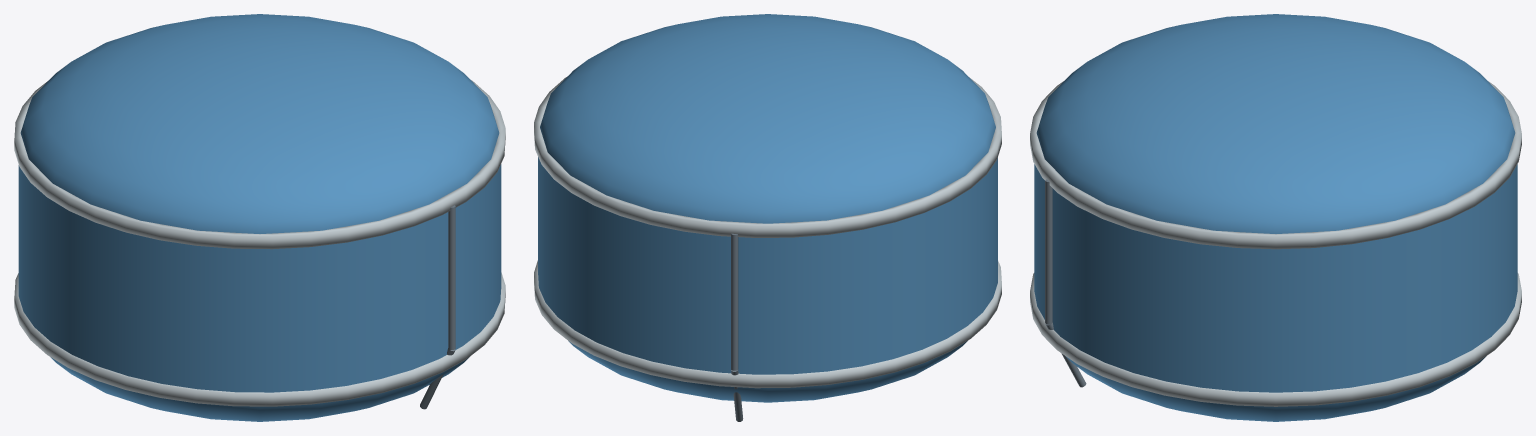
The model's file is titan_centaur_lox_vessel.glb.
3 views of the same model, side by side, from view 1: azimuth 30°, elevation 25°; view 2: azimuth 150°, elevation 25°; view 3: azimuth 270°, elevation 25° (orthographic). The views are drawn at different scales.
Visible parts, largest first — view 1: titan_centaur_lox_vessel.mesh_Cutaway_liquid_oxygen, titan_centaur_lox_vessel.mesh_Satin_aluminum, titan_centaur_lox_vessel.mesh_Machined_steel; view 2: titan_centaur_lox_vessel.mesh_Cutaway_liquid_oxygen, titan_centaur_lox_vessel.mesh_Satin_aluminum, titan_centaur_lox_vessel.mesh_Machined_steel; view 3: titan_centaur_lox_vessel.mesh_Cutaway_liquid_oxygen, titan_centaur_lox_vessel.mesh_Satin_aluminum, titan_centaur_lox_vessel.mesh_Machined_steel.
Part boxes in pixels (bbox=[...]): titan_centaur_lox_vessel.mesh_Cutaway_liquid_oxygen: bbox=[18, 14, 501, 421]; titan_centaur_lox_vessel.mesh_Satin_aluminum: bbox=[14, 80, 505, 406]; titan_centaur_lox_vessel.mesh_Machined_steel: bbox=[420, 205, 455, 409]; titan_centaur_lox_vessel.mesh_Cutaway_liquid_oxygen: bbox=[538, 14, 997, 402]; titan_centaur_lox_vessel.mesh_Satin_aluminum: bbox=[534, 76, 1001, 388]; titan_centaur_lox_vessel.mesh_Machined_steel: bbox=[731, 233, 743, 421]; titan_centaur_lox_vessel.mesh_Cutaway_liquid_oxygen: bbox=[1034, 14, 1517, 421]; titan_centaur_lox_vessel.mesh_Satin_aluminum: bbox=[1030, 81, 1521, 406]; titan_centaur_lox_vessel.mesh_Machined_steel: bbox=[1045, 179, 1086, 387].
Size of the model in its own units: 2.87 by 1.95 by 2.87.
